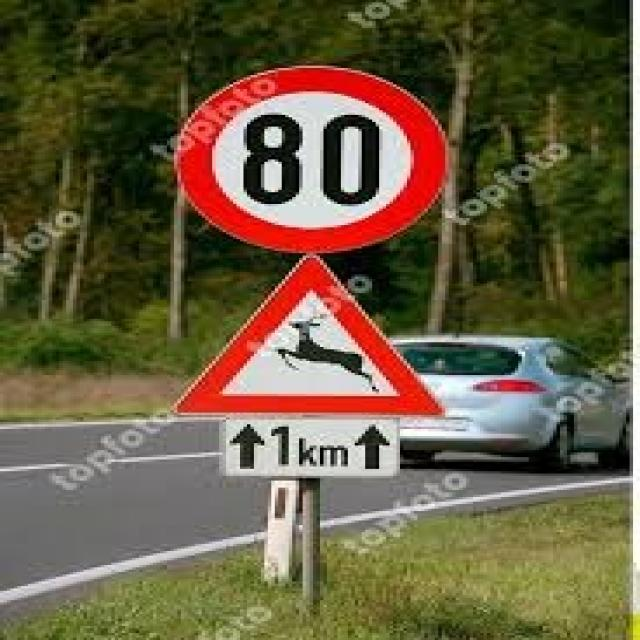speed_limit_80: (166, 65, 464, 254)
